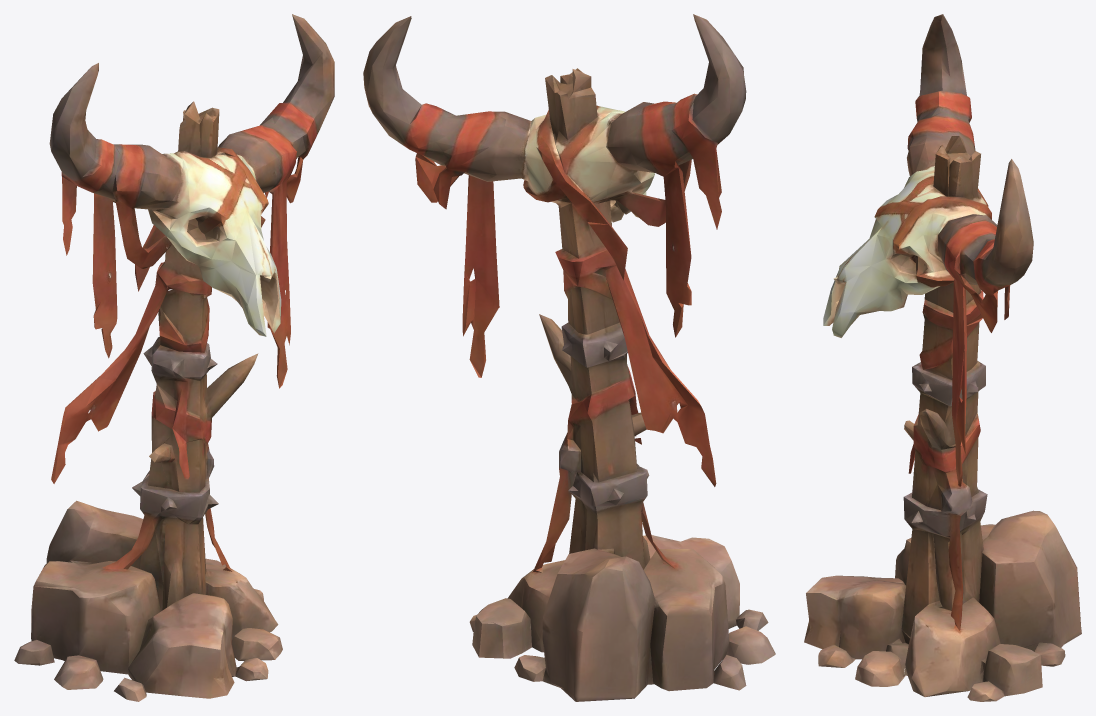
The model's file is cattle_skull_post.glb.
3 renders of one model, left to right at view 1: azimuth 30°, elevation 25°; view 2: azimuth 150°, elevation 25°; view 3: azimuth 270°, elevation 25°, orthographic. The views are drawn at different scales.
Visible parts, largest first — view 1: body; view 2: body; view 3: body.
Boxes of the visible parts, <box> form: body: <box>14,14,334,701</box>; body: <box>363,14,775,701</box>; body: <box>804,14,1081,701</box>.
Bounding box in the file's own units: 0.8149 × 1.4 × 0.5868.
Materials: 1 (1 with a texture image).
